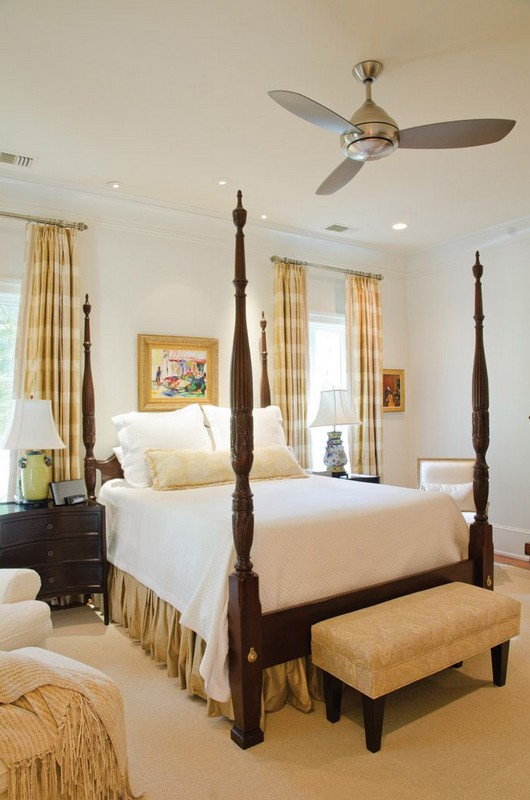bed: (90, 261, 504, 719)
lamp: (8, 392, 64, 514), (307, 381, 361, 487)
stool: (4, 497, 113, 620)
